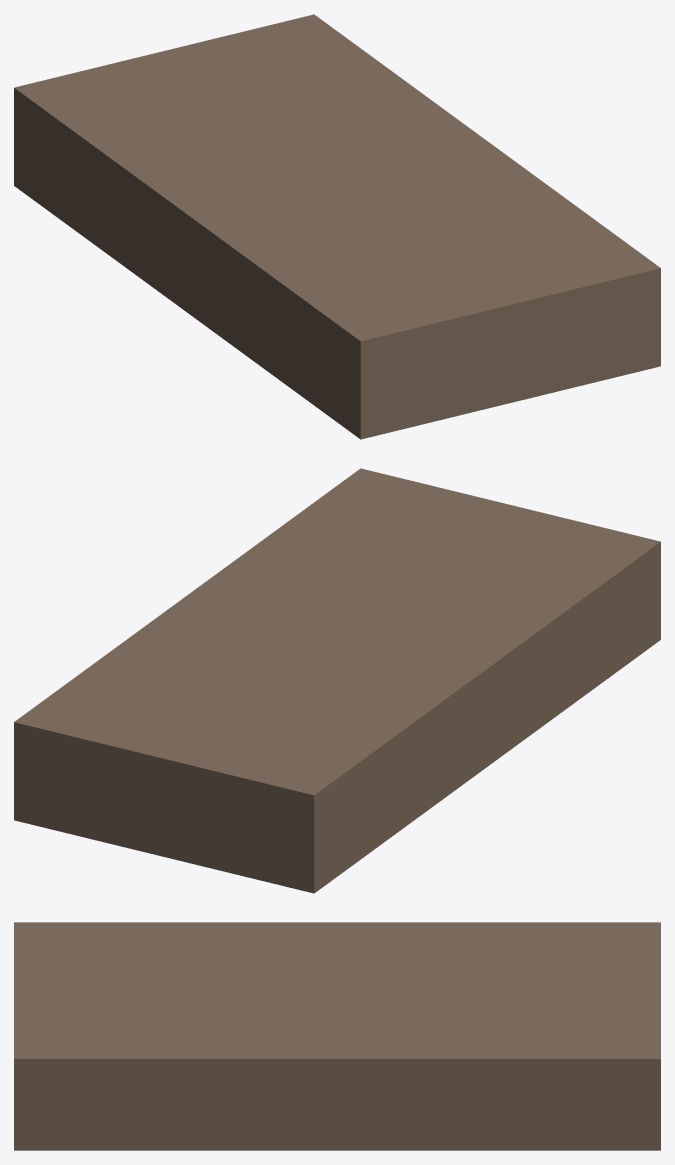
The model's file is shelf_small.glb.
3 views of the same model, one above another, from view 1: azimuth 30°, elevation 25°; view 2: azimuth 150°, elevation 25°; view 3: azimuth 270°, elevation 25° (orthographic). The views are drawn at different scales.
Visible parts, largest first — view 1: world; view 2: world; view 3: world.
Part boxes in pixels (x1,y1,x2,y2): world: [14, 14, 660, 439]; world: [14, 468, 660, 893]; world: [14, 922, 660, 1150].
Bounding box in the file's own units: 0.8 × 0.25 × 1.6.
